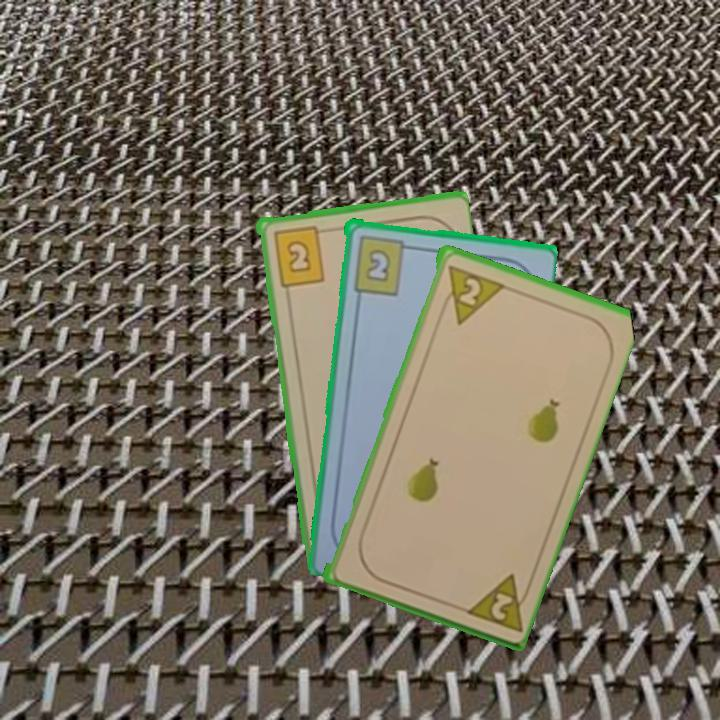2b: (349, 231, 416, 297), (269, 222, 330, 289)
2p: (459, 569, 535, 634), (437, 260, 505, 327)
